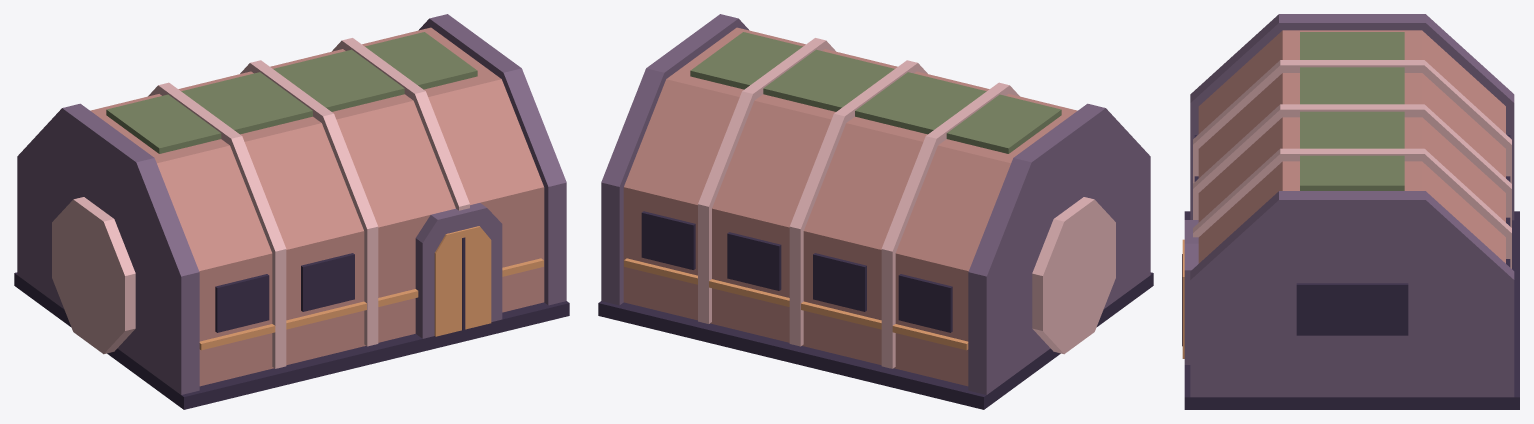
Rendered from base_greenhouse.obj.
3 views of the same model, side by side, from view 1: azimuth 30°, elevation 25°; view 2: azimuth 150°, elevation 25°; view 3: azimuth 270°, elevation 25° (orthographic).
Visible parts, largest first — view 1: base_greenhouse_dusty_rose, base_greenhouse_mauve, base_greenhouse_pale_pink, base_greenhouse_muted_olive, base_greenhouse_deep_purple, base_greenhouse_warm_orange; view 2: base_greenhouse_dusty_rose, base_greenhouse_mauve, base_greenhouse_pale_pink, base_greenhouse_deep_purple, base_greenhouse_muted_olive, base_greenhouse_warm_orange; view 3: base_greenhouse_mauve, base_greenhouse_dusty_rose, base_greenhouse_muted_olive, base_greenhouse_pale_pink, base_greenhouse_deep_purple, base_greenhouse_warm_orange.
Part boxes in pixels (box(x1,y1,x2,y2)): base_greenhouse_dusty_rose: box(90, 27, 544, 386); base_greenhouse_mauve: box(17, 14, 566, 394); base_greenhouse_pale_pink: box(52, 38, 469, 368); base_greenhouse_muted_olive: box(106, 32, 477, 153); base_greenhouse_deep_purple: box(14, 237, 569, 409); base_greenhouse_warm_orange: box(199, 226, 543, 350); base_greenhouse_dusty_rose: box(623, 27, 1077, 386); base_greenhouse_mauve: box(601, 14, 1150, 394); base_greenhouse_pale_pink: box(698, 38, 1115, 368); base_greenhouse_deep_purple: box(598, 211, 1153, 409); base_greenhouse_muted_olive: box(690, 32, 1061, 153); base_greenhouse_warm_orange: box(624, 258, 968, 350); base_greenhouse_mauve: box(1184, 14, 1514, 397); base_greenhouse_dusty_rose: box(1198, 30, 1505, 263); base_greenhouse_muted_olive: box(1300, 32, 1404, 190); base_greenhouse_pale_pink: box(1193, 60, 1511, 268); base_greenhouse_deep_purple: box(1182, 135, 1519, 409); base_greenhouse_warm_orange: box(1182, 239, 1184, 358).
Bounding box in the file's own units: 6.53 × 3.32 × 4.84.
